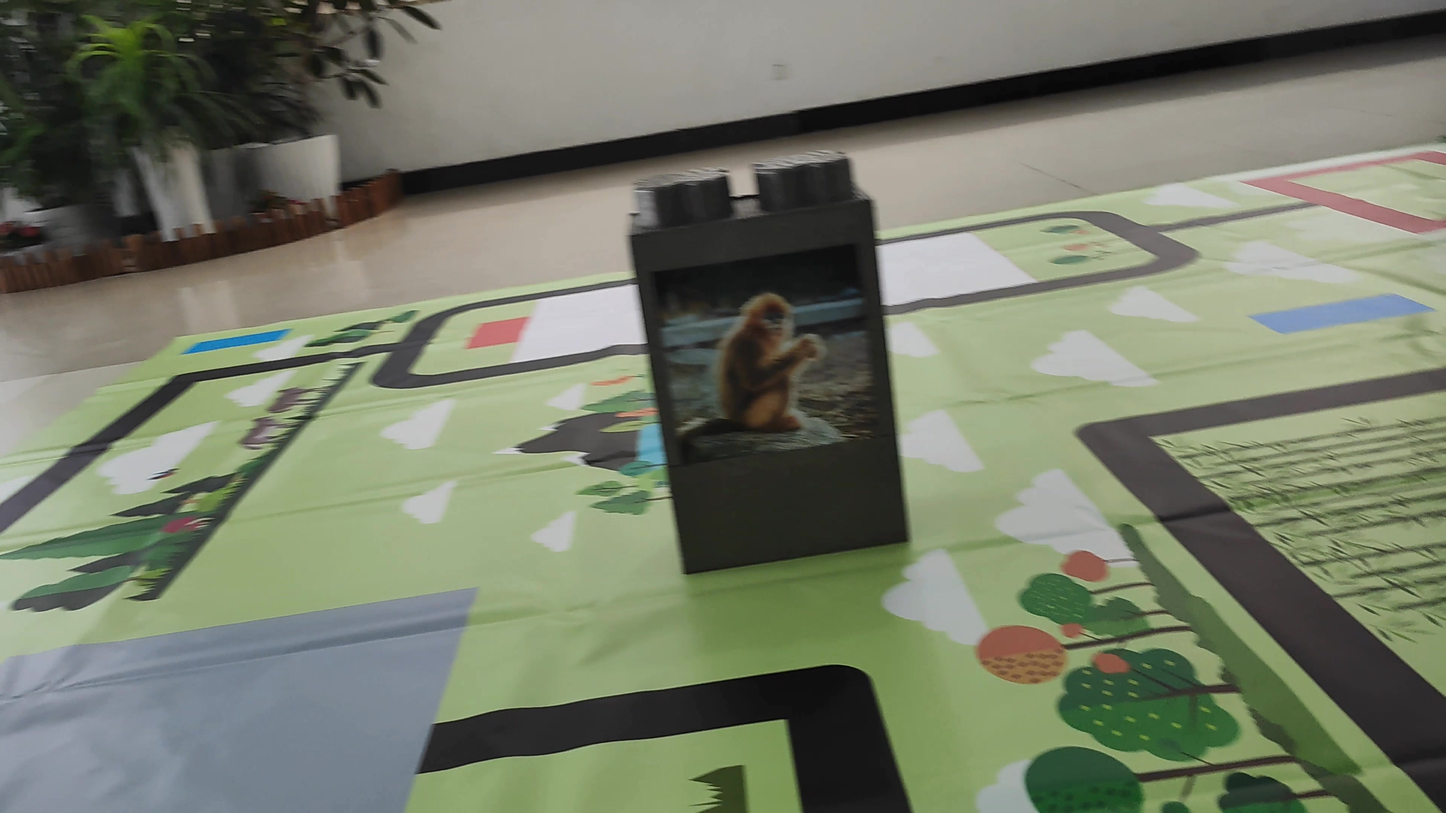monkey: (664, 265, 867, 454)
